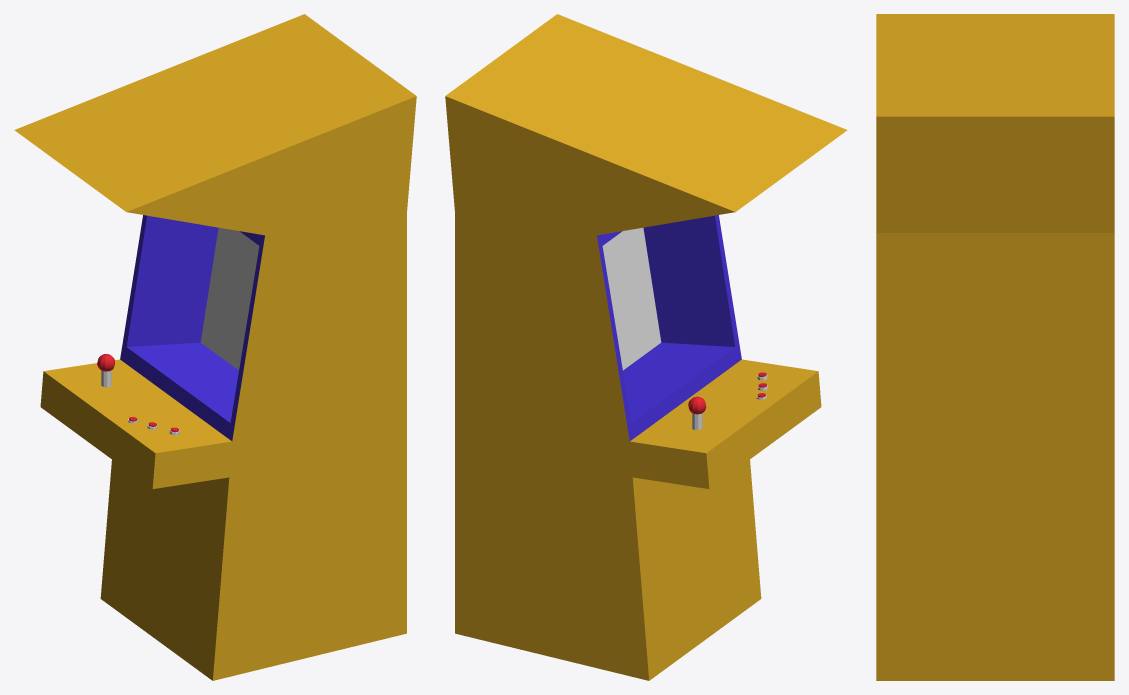
File: ArcadeMachine.fbx
3 renders of one model, left to right at view 1: azimuth 30°, elevation 25°; view 2: azimuth 150°, elevation 25°; view 3: azimuth 270°, elevation 25°, orthographic. The views are drawn at different scales.
Parts seen in each view (by area): view 1: Cube; view 2: Cube; view 3: Cube.
Part boxes in pixels (x1,y1,x2,y2): Cube: (14,14,416,680); Cube: (445,14,847,680); Cube: (876,14,1114,680).
Size of the model in its own units: 299 by 527 by 200.
